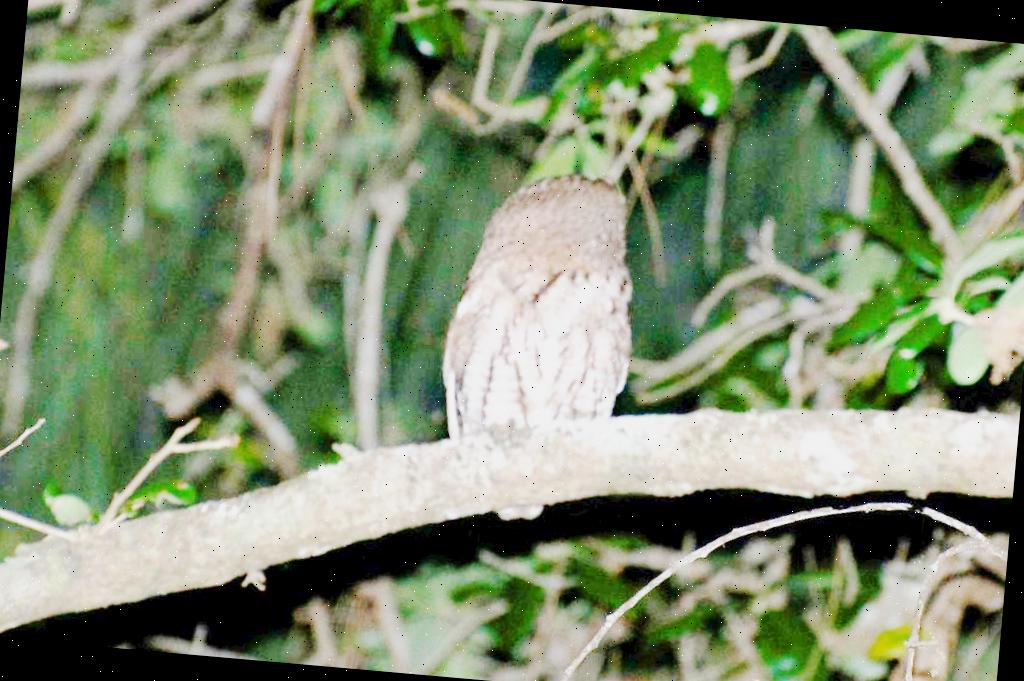Owl: (428, 156, 638, 562)
